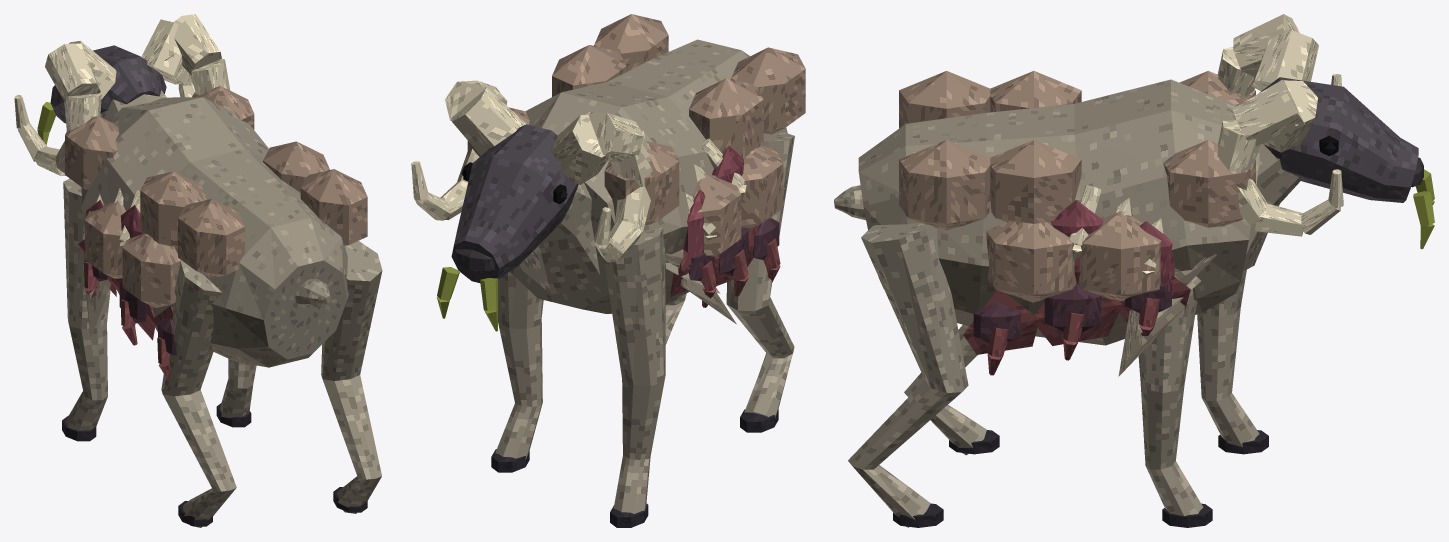
The model's file is mon_zombie_sheep.glb.
The picture shows the model from 3 angles, left to right: view 1: azimuth 30°, elevation 25°; view 2: azimuth 150°, elevation 25°; view 3: azimuth 270°, elevation 25°; orthographic projection. The views are drawn at different scales.
Visible parts, largest first — view 1: closed_body; view 2: closed_body; view 3: closed_body.
Boxes of the visible parts, bbox=[...] form: closed_body: bbox=[14, 14, 382, 527]; closed_body: bbox=[411, 14, 805, 527]; closed_body: bbox=[834, 14, 1434, 527].
Size of the model in its own units: 0.6125 by 1.04 by 1.28.
Materials: 1 (1 with a texture image).
